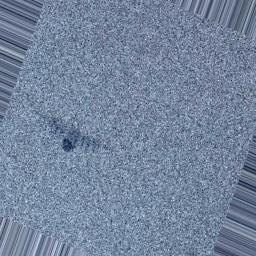Airplane: (40, 114, 108, 153)
